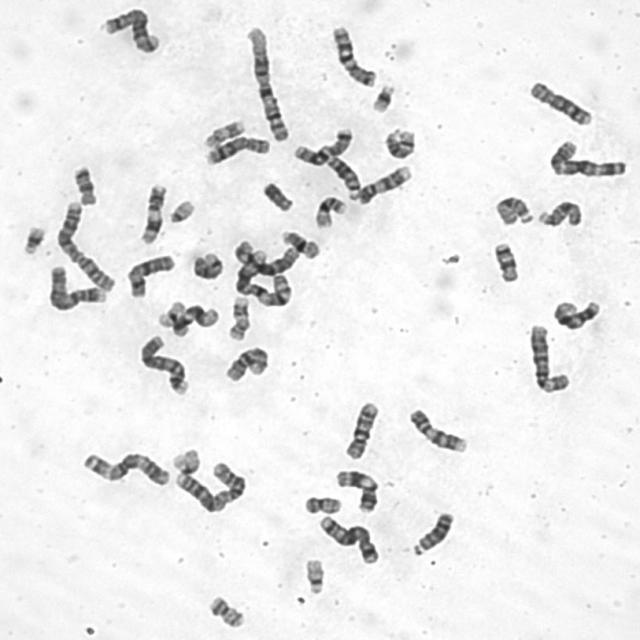A1: (242, 22, 290, 143), (230, 239, 295, 309)
A2: (52, 197, 117, 293), (170, 458, 249, 514)
A3: (77, 447, 173, 488), (546, 136, 628, 178)
B4: (136, 331, 190, 397), (43, 262, 108, 312)
B5: (314, 512, 380, 566), (98, 4, 162, 54)
C10: (341, 398, 381, 460), (221, 342, 271, 383)
C11: (332, 466, 381, 513), (136, 180, 168, 246)
C12: (549, 296, 602, 332), (168, 302, 220, 336)
C6: (525, 320, 572, 394), (229, 235, 302, 277)
C7: (327, 21, 378, 88), (289, 124, 354, 168)
C8: (524, 77, 594, 127), (202, 132, 272, 166)
C9: (405, 405, 469, 455), (351, 161, 414, 206)
D13: (409, 508, 455, 556), (322, 152, 362, 196)
D14: (379, 127, 422, 163), (188, 248, 224, 281)
D15: (535, 197, 584, 229), (491, 192, 535, 227)
E16: (277, 226, 321, 260), (311, 193, 348, 230)
E17: (200, 115, 247, 149), (224, 293, 251, 342)
E18: (489, 239, 520, 284), (68, 161, 98, 207)
F19: (168, 444, 202, 476), (154, 297, 187, 329)
F20: (204, 592, 245, 630), (300, 492, 342, 516)
G21: (18, 221, 48, 256), (367, 80, 397, 114)
G22: (300, 554, 326, 596), (165, 196, 196, 224)
X: (289, 124, 354, 168), (123, 251, 176, 299)
Y: (259, 178, 294, 213)
